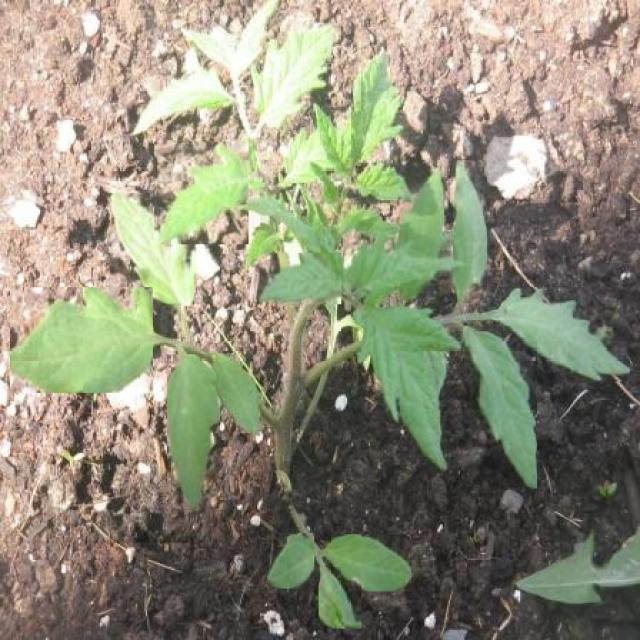Healthy: (356, 303, 461, 473), (10, 287, 153, 393), (499, 288, 630, 382), (462, 326, 538, 488), (154, 142, 249, 245), (110, 193, 194, 306), (168, 354, 219, 509), (344, 232, 466, 294), (394, 165, 444, 298), (452, 160, 487, 303), (326, 534, 411, 592), (212, 351, 262, 439), (257, 254, 342, 305), (318, 567, 362, 629), (267, 533, 314, 588)
